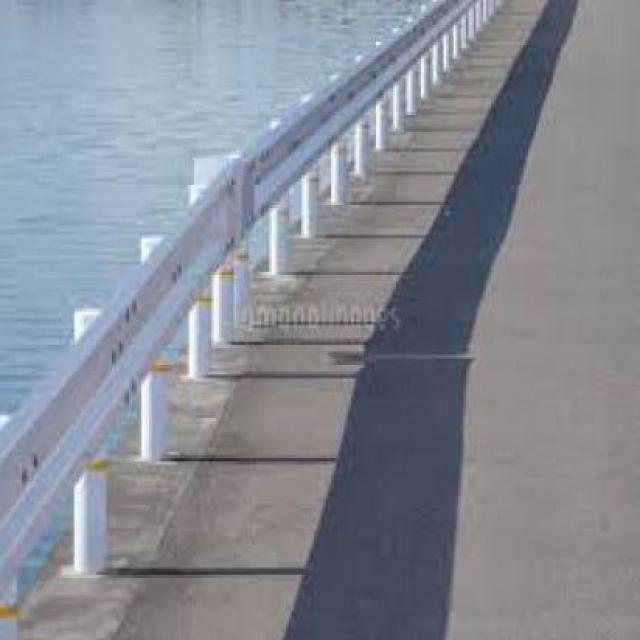Guard rail: (0, 0, 505, 640)
